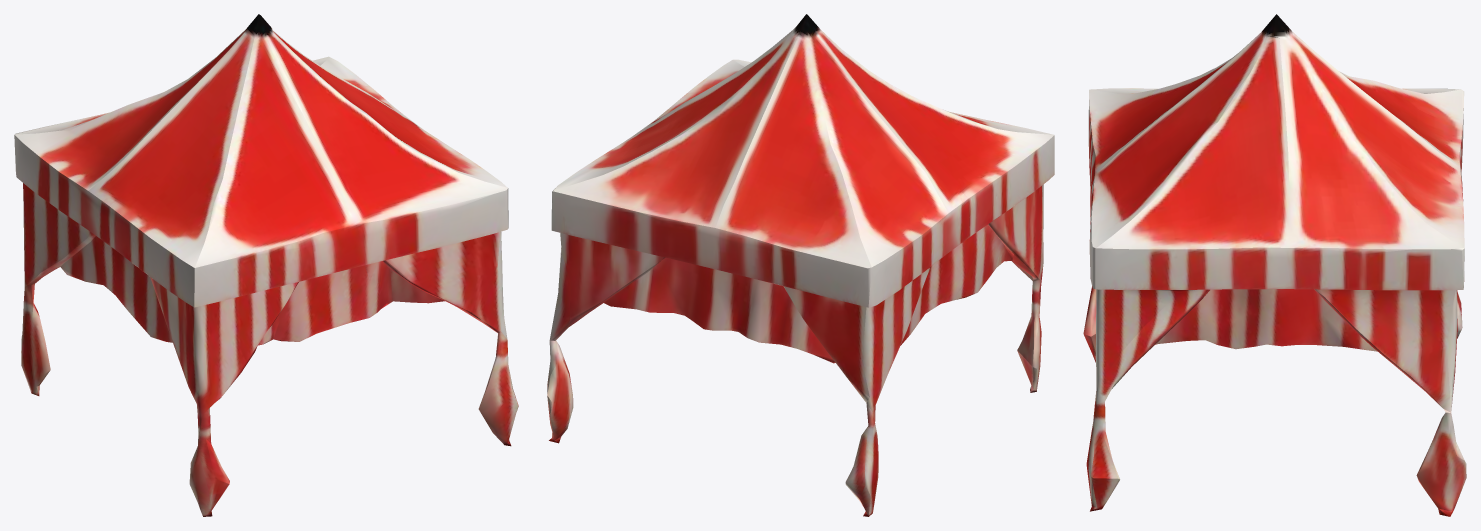
File: festivalTent.glb
The picture shows the model from 3 angles, left to right: view 1: azimuth 30°, elevation 25°; view 2: azimuth 150°, elevation 25°; view 3: azimuth 270°, elevation 25°; orthographic projection. The views are drawn at different scales.
Visible parts, largest first — view 1: model; view 2: model; view 3: model.
Boxes of the visible parts, x1,y1,x2,y2 form: model: [14, 14, 518, 516]; model: [547, 14, 1054, 516]; model: [1083, 14, 1466, 516].
Bounding box in the file's own units: 1.62 × 1.91 × 1.59.
Materials: 1 (1 with a texture image).
